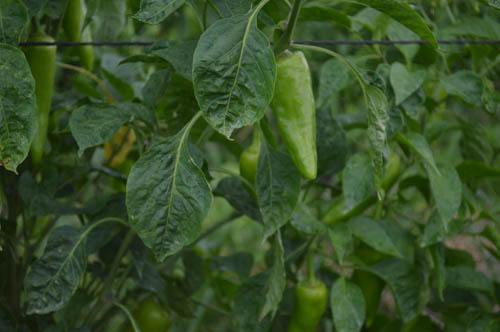ChiliPepper: (266, 52, 326, 180), (327, 152, 406, 236), (18, 31, 62, 180), (348, 237, 394, 328), (283, 268, 332, 332), (232, 136, 274, 207), (119, 298, 181, 331), (61, 2, 87, 54), (72, 34, 99, 72)
